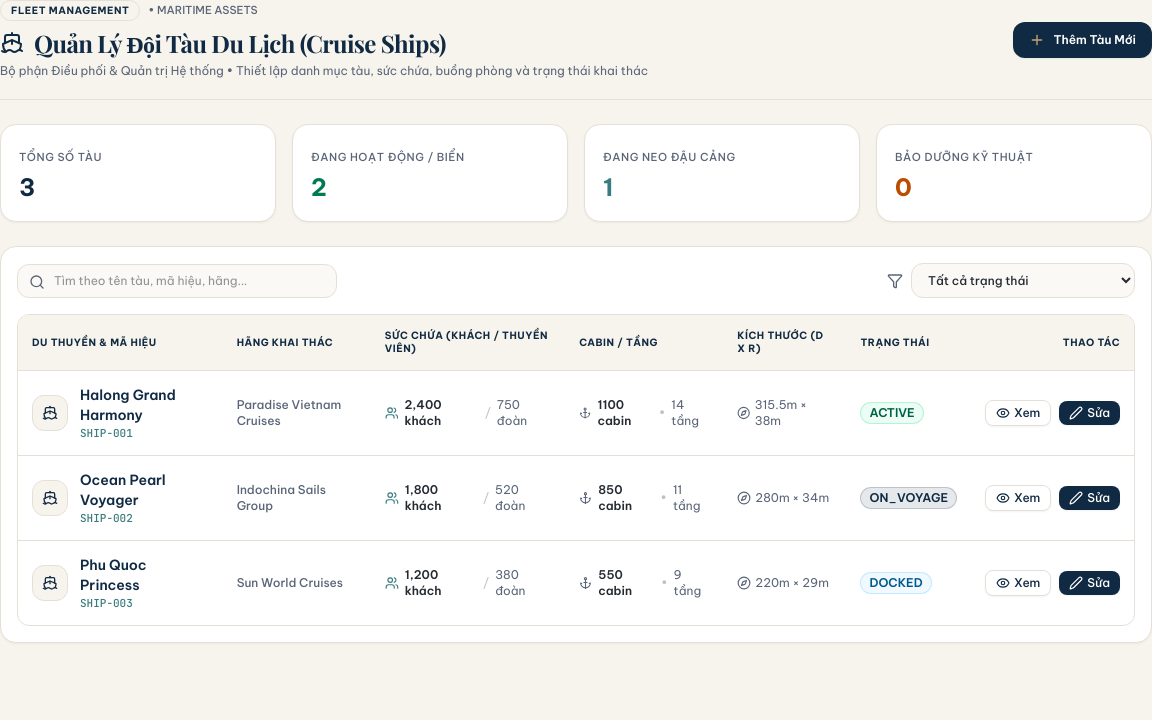
Test: ShipsPage Component Tests › opens Edit Ship Form modal pre-filled when clicking "Sửa" on a ship
Expected: the text "Halong Grand Harmony" is shown, 80,386 -> 176,424
Click the button with aria-label "Chỉnh sửa Halong Grand Harmony" at (1090, 413), box 1059,401 -> 1120,425
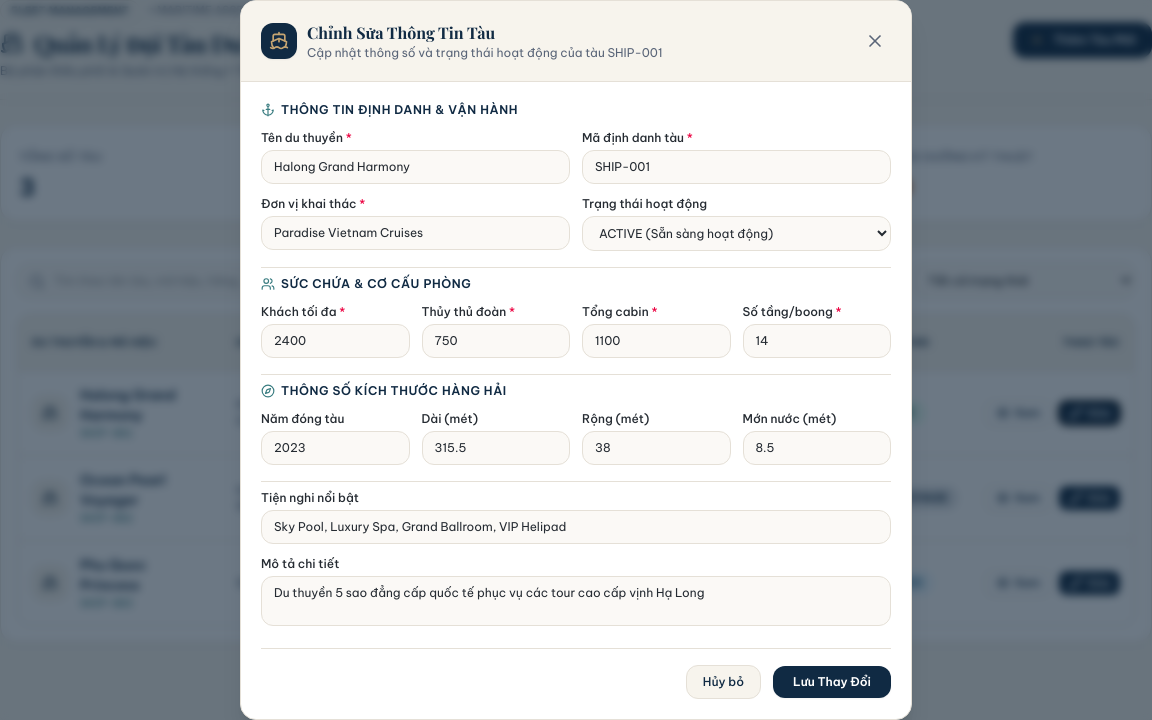
Result: the dialog is shown
Result: the heading "Chỉnh Sửa Thông Tin Tàu" is shown at 307,22 -> 495,43
Result: the field labelled "Tên du thuyền *" holds "Halong Grand Harmony" at 261,150 -> 570,184
